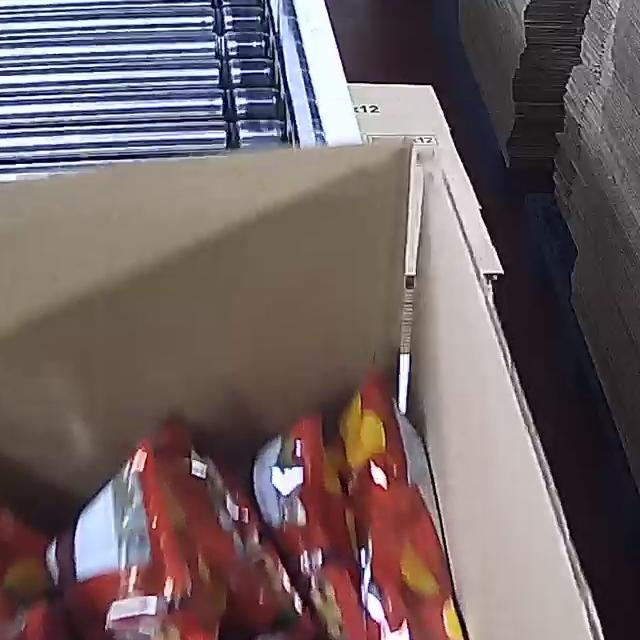masala: (0, 365, 522, 640)
